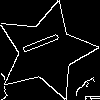I: (21, 26, 70, 56)
